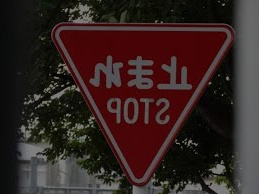Regulatory_sign_triangle: (47, 18, 243, 186)
